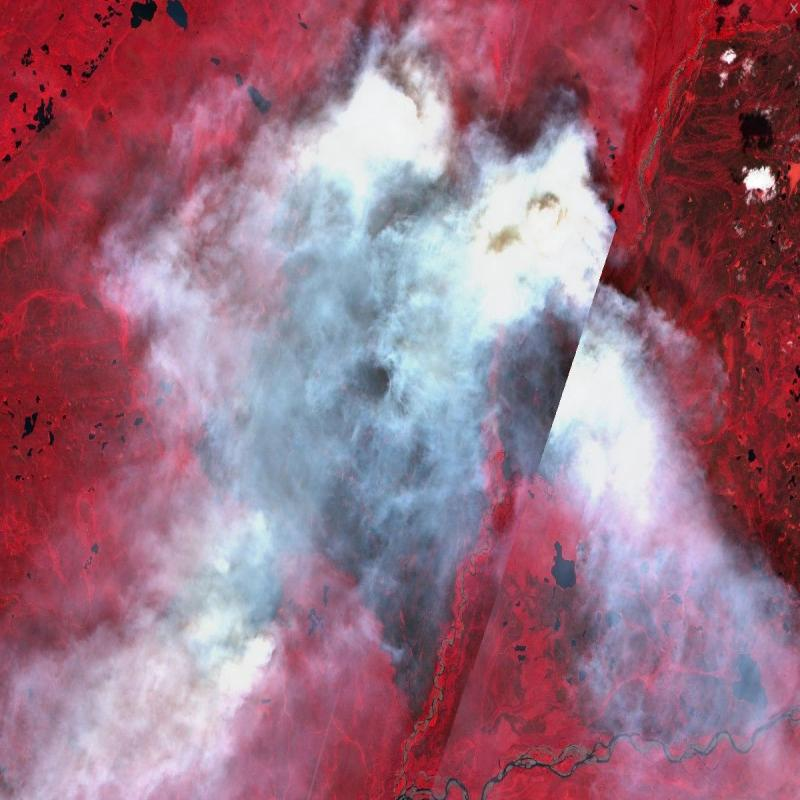fire: (254, 101, 604, 319), (140, 500, 294, 686)
